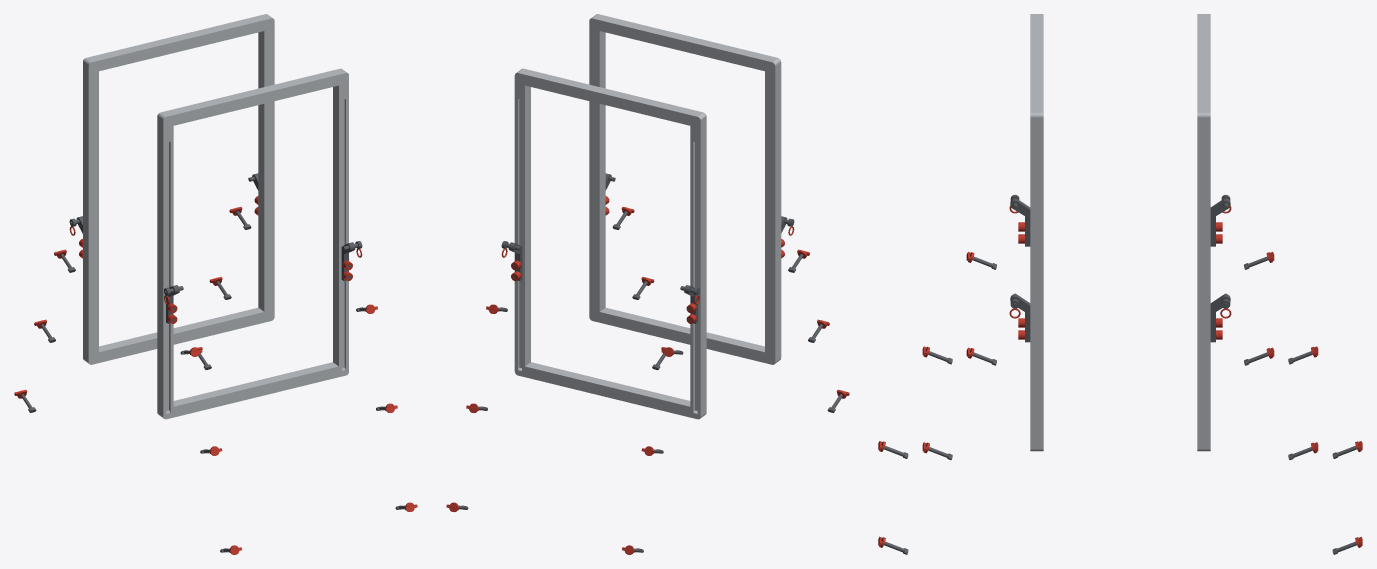
Rendered from c_shelf.glb.
3 views of the same model, side by side, from view 1: azimuth 30°, elevation 25°; view 2: azimuth 150°, elevation 25°; view 3: azimuth 270°, elevation 25° (orthographic). The views are drawn at different scales.
Parts seen in each view (by area): view 1: ring_back, ring_front; view 2: ring_front, ring_back; view 3: ring_front, ring_back.
Part boxes in pixels (left/top/right/bottom): ring_back: left=83, top=14, right=274, bottom=364; ring_front: left=157, top=68, right=348, bottom=419; ring_front: left=589, top=14, right=781, bottom=364; ring_back: left=514, top=68, right=706, bottom=419; ring_front: left=1030, top=14, right=1043, bottom=451; ring_back: left=1197, top=14, right=1210, bottom=451.
Size of the model in its own units: 0.3808 by 0.7322 by 0.7266.
